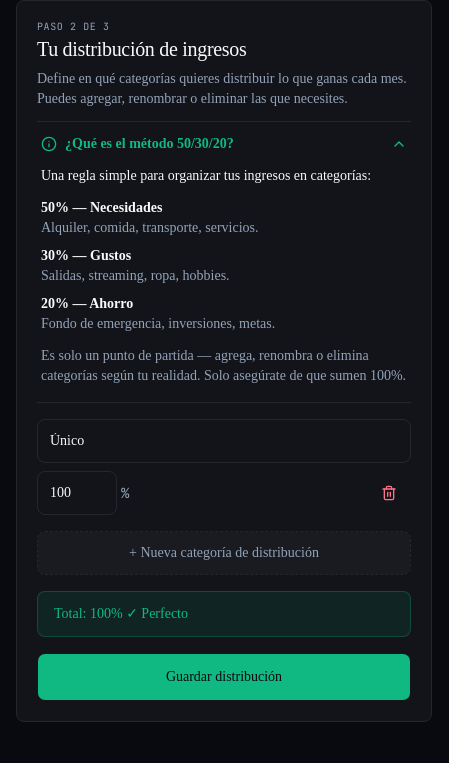
Test: OnboardingStep2 › transient messages (FR-020, FR-021) › hides the notice as soon as the user does anything else
Click the button named "eliminar categoría": point(389, 493) [367,471,411,515]
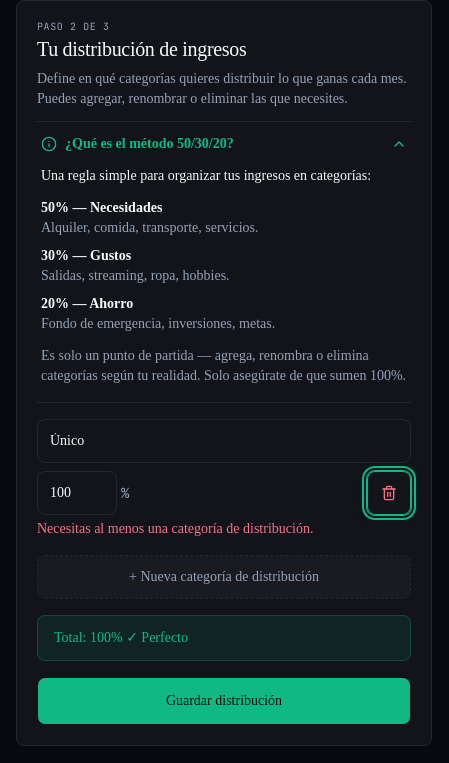
Check: the message "Necesitas al menos una categoría de distribución." is shown, box [37,521,313,536]
In the field named "Nombre de la categoría 1": point(224, 441) [37,419,411,463], type "x"
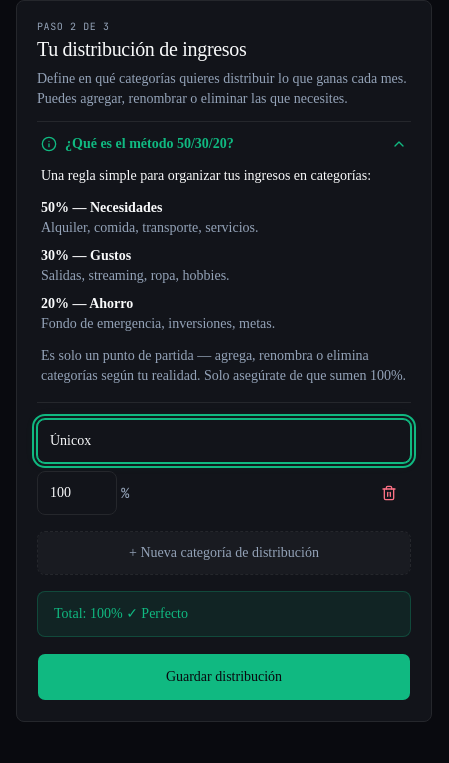
Check: the message "Necesitas al menos una categoría de distribución." is gone
